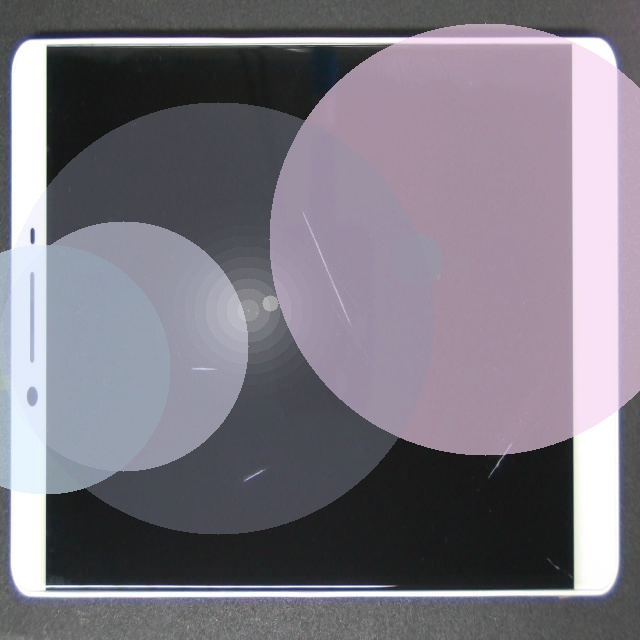scratch: (268, 190, 640, 640), (154, 214, 388, 640), (129, 179, 313, 532), (207, 233, 508, 427)
